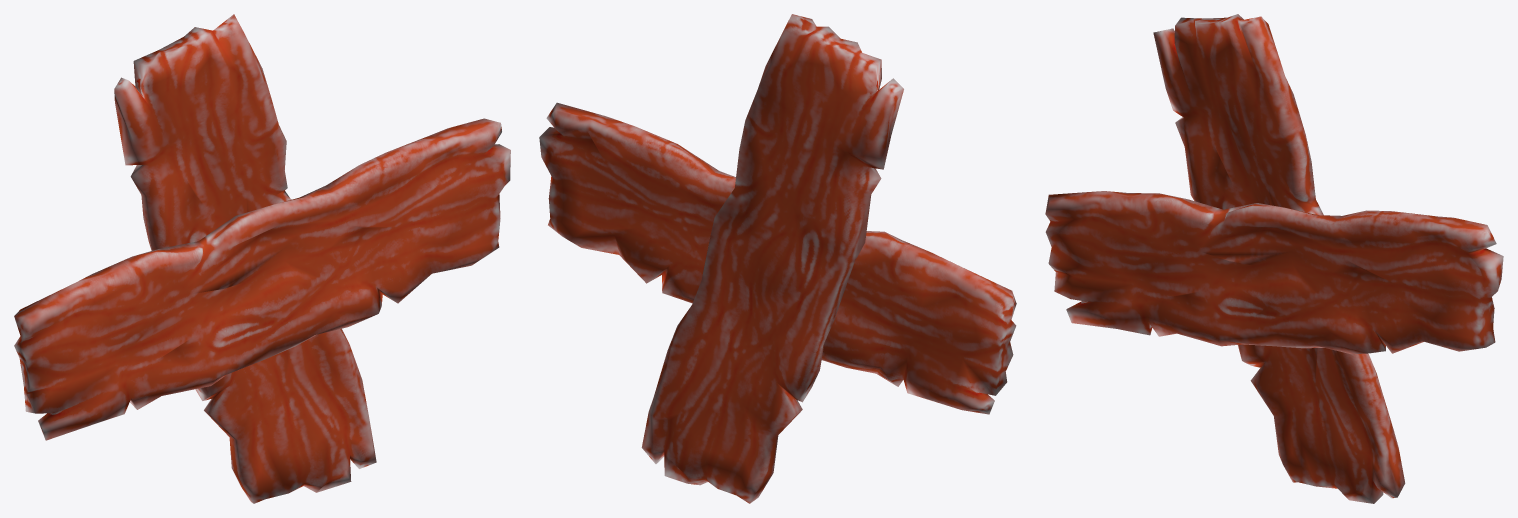
File: xis.dae
The picture shows the model from 3 angles, left to right: view 1: azimuth 30°, elevation 25°; view 2: azimuth 150°, elevation 25°; view 3: azimuth 330°, elevation 25°; orthographic projection. The views are drawn at different scales.
Parts seen in each view (by area): view 1: wood_lp, wood_lp_001; view 2: wood_lp_001, wood_lp; view 3: wood_lp, wood_lp_001.
Boxes of the visible parts, bbox=[...] form: wood_lp: bbox=[14, 118, 510, 440]; wood_lp_001: bbox=[114, 14, 376, 503]; wood_lp_001: bbox=[641, 14, 903, 503]; wood_lp: bbox=[539, 102, 1016, 414]; wood_lp: bbox=[1045, 191, 1503, 354]; wood_lp_001: bbox=[1153, 14, 1405, 503].
Size of the model in its own units: 1.58 by 0.1965 by 1.56.
